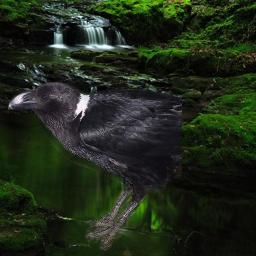Crow: (7, 81, 182, 252)
